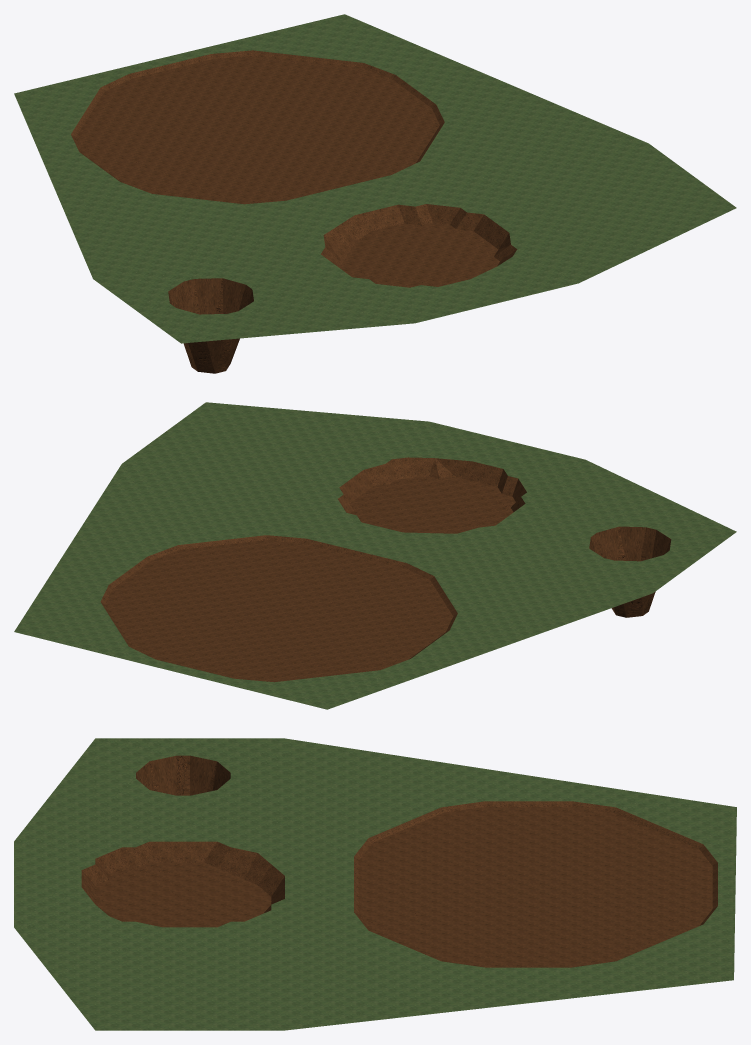
The model's file is ground.glb.
3 views of the same model, one above another, from view 1: azimuth 30°, elevation 25°; view 2: azimuth 150°, elevation 25°; view 3: azimuth 270°, elevation 25° (orthographic). The views are drawn at different scales.
Parts seen in each view (by area): view 1: Plane; view 2: Plane; view 3: Plane.
Boxes of the visible parts, x1,y1,x2,y2 form: Plane: [14, 14, 736, 373]; Plane: [14, 402, 736, 709]; Plane: [14, 738, 736, 1030].
Size of the model in its own units: 150 by 17.86 by 157.
2 materials, 2 textured.
